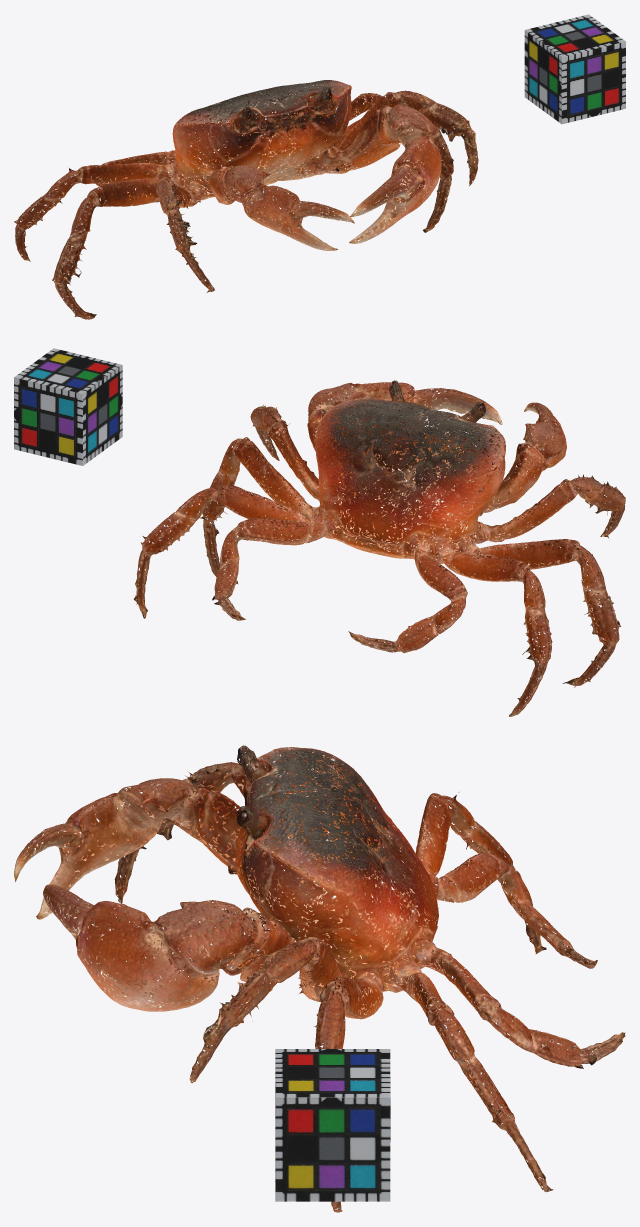
Rendered from crab.glb.
The picture shows the model from 3 angles, top to bottom: view 1: azimuth 30°, elevation 25°; view 2: azimuth 150°, elevation 25°; view 3: azimuth 270°, elevation 25°; orthographic projection. The views are drawn at different scales.
Visible parts, largest first — view 1: QS1489-W02-1-2_1, _Cube_0; view 2: QS1489-W02-1-2_1, _Cube_0; view 3: QS1489-W02-1-2_1, _Cube_0.
Boxes of the visible parts, left/top/right/bottom form: QS1489-W02-1-2_1: left=14, top=80, right=478, bottom=319; _Cube_0: left=524, top=14, right=625, bottom=124; QS1489-W02-1-2_1: left=133, top=380, right=625, bottom=716; _Cube_0: left=14, top=348, right=122, bottom=465; QS1489-W02-1-2_1: left=14, top=745, right=625, bottom=1212; _Cube_0: left=275, top=1049, right=390, bottom=1201.
Bounding box in the file's own units: 0.0856 × 0.0311 × 0.0532.
Materials: 2 (2 with a texture image).
